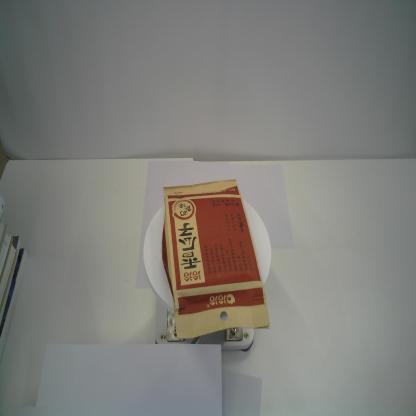Dried Food: (162, 178, 271, 340)
